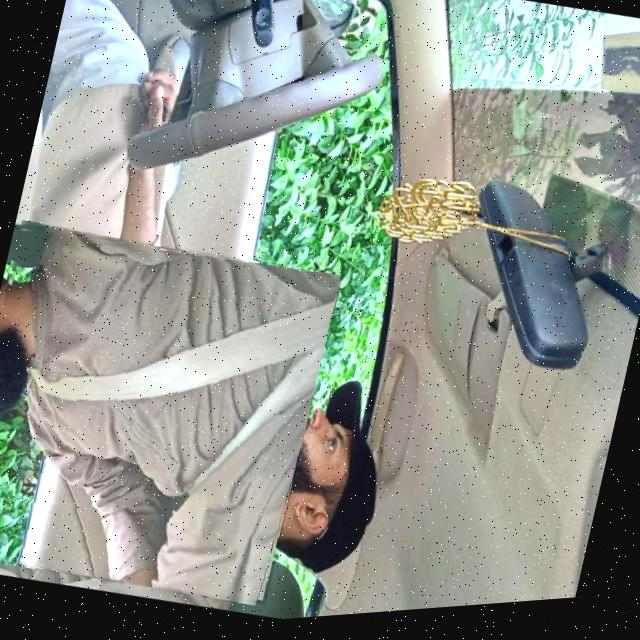seatbelt: (0, 202, 339, 624)
